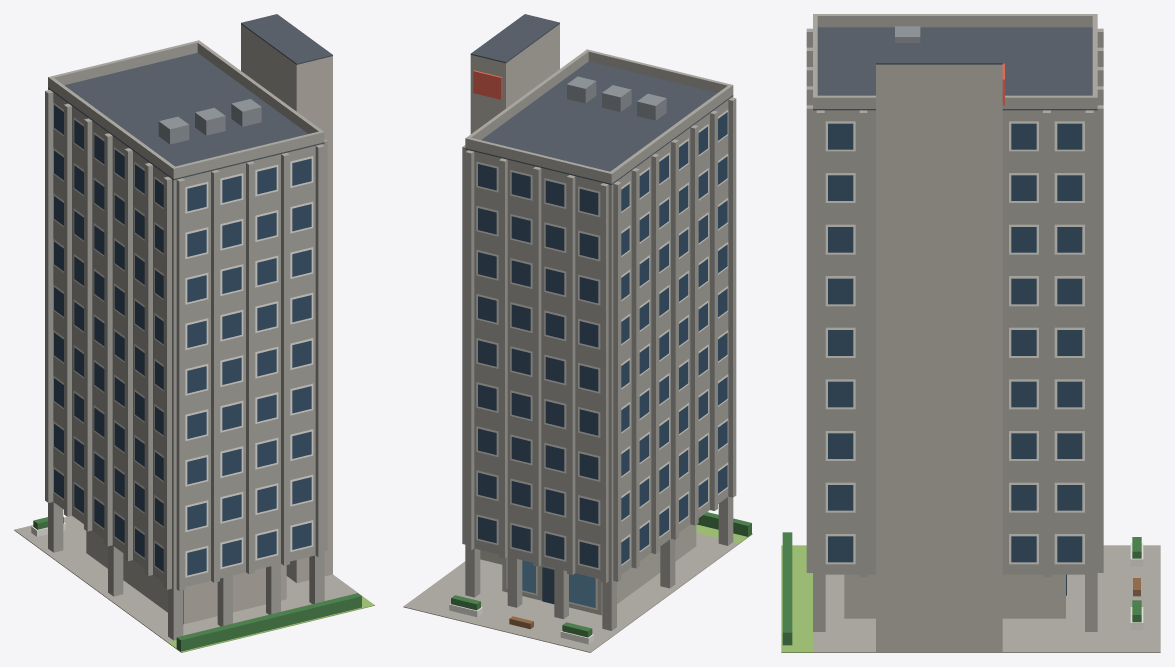
3 renders of one model, left to right at view 1: azimuth 30°, elevation 25°; view 2: azimuth 150°, elevation 25°; view 3: azimuth 270°, elevation 25°, orthographic. The views are drawn at different scales.
Visible parts, largest first — view 1: pier (×13), wall, roof (×2), core, parapet (×4), paving, column (×6), lobby, hedge, ac_unit (×3), lawn; view 2: pier (×13), wall, roof (×2), paving, parapet (×4), column (×6), core, lobby, ac_unit (×3), storefront, sign, hedge; view 3: core, wall, pier (×6), window_glass (×27), roof (×2), paving, parapet (×3), lobby, lawn, column (×2), hedge.
Boxes of the visible parts, x1,y1,x2,y2 form: pier (×13): [45, 90, 327, 591]; wall: [48, 88, 324, 589]; roof (×2): [48, 14, 332, 180]; core: [241, 24, 332, 582]; parapet (×4): [48, 40, 324, 178]; paving: [14, 516, 360, 642]; column (×6): [48, 502, 324, 640]; lobby: [86, 530, 286, 624]; hedge: [176, 593, 361, 651]; ac_unit (×3): [158, 99, 261, 144]; lawn: [167, 595, 374, 652]; pier (×13): [462, 97, 736, 582]; wall: [465, 96, 733, 581]; roof (×2): [465, 14, 733, 184]; paving: [403, 533, 739, 652]; parapet (×4): [465, 49, 733, 183]; column (×6): [465, 496, 733, 630]; core: [470, 24, 559, 564]; lobby: [502, 524, 696, 615]; ac_unit (×3): [567, 76, 666, 120]; storefront: [569, 573, 595, 607]; sign: [473, 70, 502, 99]; hedge: [697, 512, 751, 536]; core: [876, 64, 1002, 651]; wall: [813, 110, 1097, 574]; pier (×6): [806, 105, 1103, 577]; window_glass (×27): [828, 123, 1082, 562]; roof (×2): [813, 27, 1097, 110]; paving: [813, 545, 1160, 652]; parapet (×3): [817, 14, 1097, 108]; lobby: [844, 574, 1065, 618]; lawn: [781, 545, 812, 652]; column (×2): [813, 574, 1097, 631]; hedge: [782, 532, 792, 645].
Bounding box in the file's own units: 16 × 41.16 × 24.
